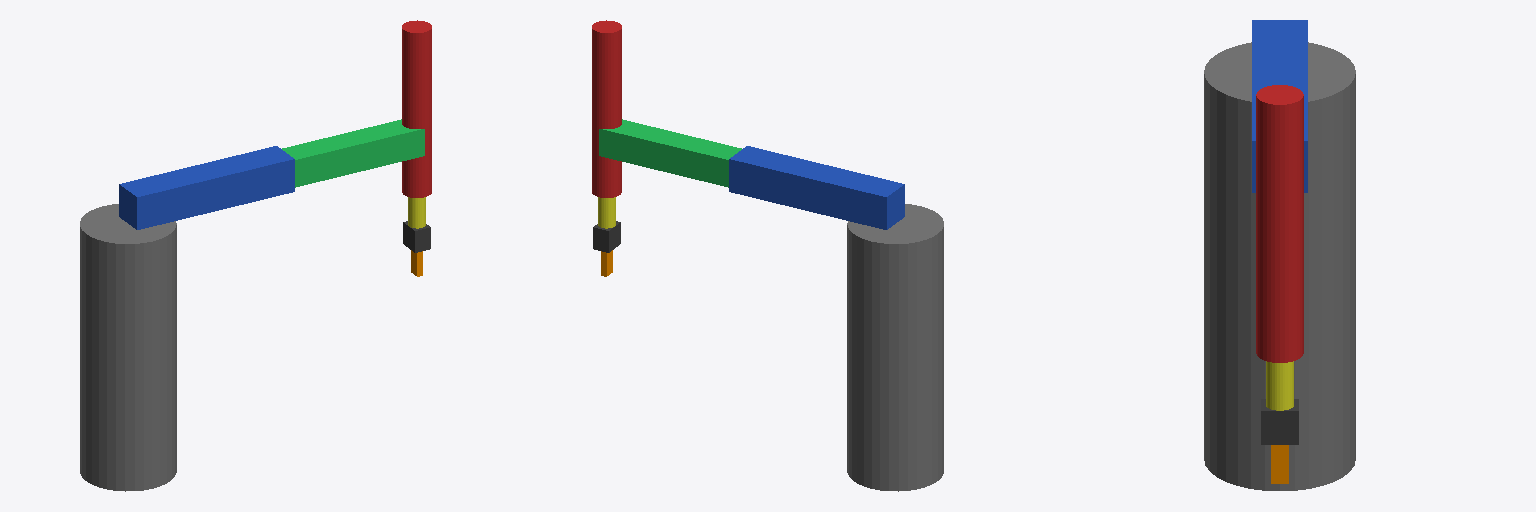
The robot description file, URDF, robot "scara_robot":
<?xml version="1.0"?>
<robot name="scara_robot">
  
  <!-- ベース（固定） -->
  <link name="base_link">
    <visual>
      <origin xyz="0 0 -0.27" rpy="0 0 0"/>
      <geometry>
        <cylinder length="0.45" radius="0.08"/>
      </geometry>
      <material name="gray">
        <color rgba="0.5 0.5 0.5 1"/>
      </material>
    </visual>
    <collision>
      <origin xyz="0 0 -0.27" rpy="0 0 0"/>
      <geometry>
        <cylinder length="0.45" radius="0.08"/>
      </geometry>
    </collision>
    <inertial>
      <mass value="1.0"/>
      <inertia ixx="0.001" ixy="0" ixz="0" iyy="0.001" iyz="0" izz="0.001"/>
    </inertial>
  </link>

  <!-- 第1リンク（回転関節1） -->
  <link name="link1">
    <visual>
      <origin xyz="0.15 0 0" rpy="0 0 0"/>
      <geometry>
        <box size="0.3 0.06 0.06"/>
      </geometry>
      <material name="blue">
        <color rgba="0.2 0.4 0.8 1"/>
      </material>
    </visual>
    <collision>
      <origin xyz="0.15 0 0" rpy="0 0 0"/>
      <geometry>
        <box size="0.3 0.06 0.06"/>
      </geometry>
    </collision>
    <inertial>
      <origin xyz="0.15 0 0" rpy="0 0 0"/>
      <mass value="0.5"/>
      <inertia ixx="0.001" ixy="0" ixz="0" iyy="0.01" iyz="0" izz="0.01"/>
    </inertial>
  </link>

  <joint name="joint1" type="revolute">
    <parent link="base_link"/>
    <child link="link1"/>
    <origin xyz="0 0 -0.015" rpy="0 0 0"/>
    <axis xyz="0 0 1"/>
    <limit lower="-3.14159" upper="3.14159" effort="100" velocity="2.0"/>
  </joint>

  <!-- 第2リンク（回転関節2） -->
  <link name="link2">
    <visual>
      <origin xyz="0.125 0 0" rpy="0 0 0"/>
      <geometry>
        <box size="0.25 0.05 0.05"/>
      </geometry>
      <material name="green">
        <color rgba="0.2 0.8 0.4 1"/>
      </material>
    </visual>
    <collision>
      <origin xyz="0.125 0 0" rpy="0 0 0"/>
      <geometry>
        <box size="0.25 0.05 0.05"/>
      </geometry>
    </collision>
    <inertial>
      <origin xyz="0.125 0 0" rpy="0 0 0"/>
      <mass value="0.4"/>
      <inertia ixx="0.001" ixy="0" ixz="0" iyy="0.005" iyz="0" izz="0.005"/>
    </inertial>
  </link>

  <joint name="joint2" type="revolute">
    <parent link="link1"/>
    <child link="link2"/>
    <origin xyz="0.3 0 0" rpy="0 0 0"/>
    <axis xyz="0 0 1"/>
    <limit lower="-2.618" upper="2.618" effort="100" velocity="2.0"/>
  </joint>

  <!-- 第3リンク（垂直直動関節） -->
  <link name="link3">
    <visual>
      <origin xyz="0 0 0.05" rpy="0 0 0"/>
      <geometry>
        <cylinder length="0.3" radius="0.025"/>
      </geometry>
      <material name="red">
        <color rgba="0.8 0.2 0.2 1"/>
      </material>
    </visual>
    <collision>
      <origin xyz="0 0 0.05" rpy="0 0 0"/>
      <geometry>
        <cylinder length="0.3" radius="0.025"/>
      </geometry>
    </collision>
    <inertial>
      <origin xyz="0 0 -0.075" rpy="0 0 0"/>
      <mass value="0.2"/>
      <inertia ixx="0.0001" ixy="0" ixz="0" iyy="0.0001" iyz="0" izz="0.0001"/>
    </inertial>
  </link>

  <joint name="joint3" type="prismatic">
    <parent link="link2"/>
    <child link="link3"/>
    <origin xyz="0.25 0 0" rpy="0 0 0"/>
    <axis xyz="0 0 1"/>
    <limit lower="-0.15" upper="0.05" effort="100" velocity="0.5"/>
  </joint>

  <!-- エンドエフェクタ（回転関節4 - ツール回転） -->
  <link name="end_effector">
    <visual>
      <origin xyz="0 0 -0.03" rpy="0 0 0"/>
      <geometry>
        <cylinder length="0.06" radius="0.015"/>
      </geometry>
      <material name="yellow">
        <color rgba="0.9 0.9 0.2 1"/>
      </material>
    </visual>
    <collision>
      <origin xyz="0 0 -0.03" rpy="0 0 0"/>
      <geometry>
        <cylinder length="0.06" radius="0.015"/>
      </geometry>
    </collision>
    <inertial>
      <origin xyz="0 0 -0.03" rpy="0 0 0"/>
      <mass value="0.1"/>
      <inertia ixx="0.00001" ixy="0" ixz="0" iyy="0.00001" iyz="0" izz="0.00001"/>
    </inertial>
  </link>

  <joint name="joint4" type="revolute">
    <parent link="link3"/>
    <child link="end_effector"/>
    <origin xyz="0 0 -0.1" rpy="0 0 0"/>
    <axis xyz="0 0 1"/>
    <limit lower="-3.14159" upper="3.14159" effort="50" velocity="3.0"/>
  </joint>

  <!-- グリッパベース -->
  <link name="gripper_base">
    <visual>
      <origin xyz="0 0 -0.02" rpy="0 0 0"/>
      <geometry>
        <box size="0.03 0.04 0.04"/>
      </geometry>
      <material name="dark_gray">
        <color rgba="0.3 0.3 0.3 1"/>
      </material>
    </visual>
    <collision>
      <origin xyz="0 0 -0.02" rpy="0 0 0"/>
      <geometry>
        <box size="0.03 0.04 0.04"/>
      </geometry>
    </collision>
    <inertial>
      <origin xyz="0 0 -0.02" rpy="0 0 0"/>
      <mass value="0.05"/>
      <inertia ixx="0.00001" ixy="0" ixz="0" iyy="0.00001" iyz="0" izz="0.00001"/>
    </inertial>
  </link>

  <joint name="gripper_base_joint" type="fixed">
    <parent link="end_effector"/>
    <child link="gripper_base"/>
    <origin xyz="0 0 -0.06" rpy="0 0 0"/>
  </joint>

  <!-- 左グリッパフィンガー -->
  <link name="gripper_left_finger">
    <visual>
      <origin xyz="0 0.005 -0.025" rpy="0 0 0"/>
      <geometry>
        <box size="0.01 0.01 0.05"/>
      </geometry>
      <material name="orange">
        <color rgba="1.0 0.6 0.0 1"/>
      </material>
    </visual>
    <collision>
      <origin xyz="0 0.005 -0.025" rpy="0 0 0"/>
      <geometry>
        <box size="0.01 0.01 0.05"/>
      </geometry>
    </collision>
    <inertial>
      <origin xyz="0 0.005 -0.025" rpy="0 0 0"/>
      <mass value="0.02"/>
      <inertia ixx="0.000001" ixy="0" ixz="0" iyy="0.000001" iyz="0" izz="0.000001"/>
    </inertial>
  </link>

  <joint name="gripper_left_joint" type="prismatic">
    <parent link="gripper_base"/>
    <child link="gripper_left_finger"/>
    <origin xyz="0 0 -0.04" rpy="0 0 0"/>
    <axis xyz="0 1 0"/>
    <limit lower="0" upper="0.02" effort="20" velocity="0.1"/>
  </joint>

  <!-- 右グリッパフィンガー -->
  <link name="gripper_right_finger">
    <visual>
      <origin xyz="0 -0.005 -0.025" rpy="0 0 0"/>
      <geometry>
        <box size="0.01 0.01 0.05"/>
      </geometry>
      <material name="orange">
        <color rgba="1.0 0.6 0.0 1"/>
      </material>
    </visual>
    <collision>
      <origin xyz="0 -0.005 -0.025" rpy="0 0 0"/>
      <geometry>
        <box size="0.01 0.01 0.05"/>
      </geometry>
    </collision>
    <inertial>
      <origin xyz="0 -0.005 -0.025" rpy="0 0 0"/>
      <mass value="0.02"/>
      <inertia ixx="0.000001" ixy="0" ixz="0" iyy="0.000001" iyz="0" izz="0.000001"/>
    </inertial>
  </link>

  <joint name="gripper_right_joint" type="prismatic">
    <parent link="gripper_base"/>
    <child link="gripper_right_finger"/>
    <origin xyz="0 0 -0.04" rpy="0 0 0"/>
    <axis xyz="0 1 0"/>
    <limit lower="-0.02" upper="0" effort="20" velocity="0.1"/>
  </joint>

</robot>

--- Facts derived from the render (not from the file) ---
Views: 3 orthographic renders of the robot side by side, from view 1: azimuth 30°, elevation 25°; view 2: azimuth 150°, elevation 25°; view 3: azimuth 270°, elevation 25°.
Model scara_robot with 8 links and 7 joints (3 revolute, 3 prismatic, 1 fixed), rooted at base_link, posed every joint at zero.
Links seen in each view (by area): view 1: base_link, link1, link2, link3, gripper_base, end_effector; view 2: base_link, link1, link2, link3, gripper_base, end_effector; view 3: base_link, link3, link1, gripper_base, end_effector.
Boxes of the visible links, x1,y1,x2,y2 form: base_link: [80, 204, 176, 491]; link1: [119, 146, 294, 229]; link2: [282, 119, 424, 187]; link3: [402, 20, 431, 197]; gripper_base: [403, 221, 430, 252]; end_effector: [408, 197, 425, 228]; base_link: [847, 204, 943, 491]; link1: [729, 146, 904, 229]; link2: [599, 119, 741, 187]; link3: [592, 20, 621, 197]; gripper_base: [593, 221, 620, 252]; end_effector: [598, 197, 615, 228]; base_link: [1204, 42, 1355, 490]; link3: [1256, 85, 1303, 362]; link1: [1252, 20, 1307, 192]; gripper_base: [1261, 399, 1298, 444]; end_effector: [1266, 361, 1293, 410].
Bounding box of the posed robot: 0.655 × 0.16 × 0.68 m (x, y, z).
Geometry: primitives only (box / cylinder / sphere), no mesh files.
